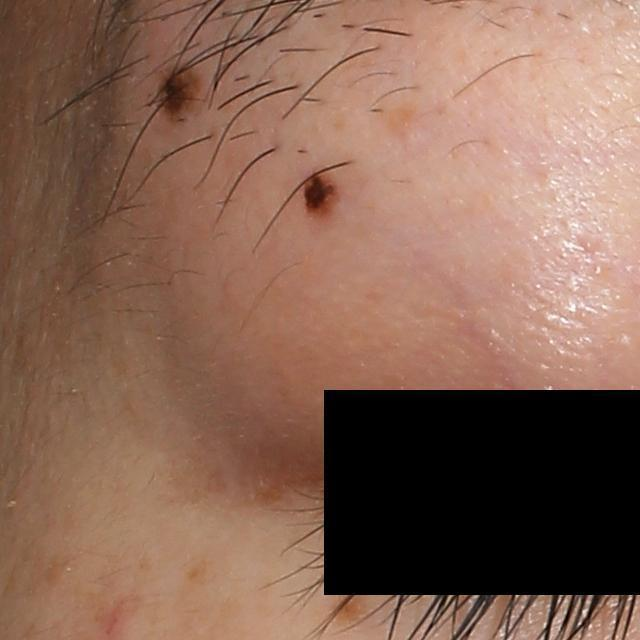melasma: (326, 588, 372, 624)
nevus: (148, 61, 209, 125), (296, 167, 348, 224)
